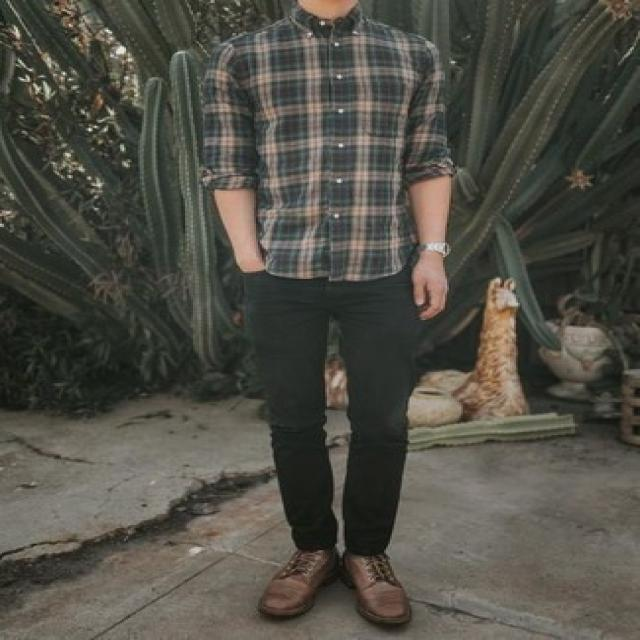plaid: (196, 18, 454, 284)
